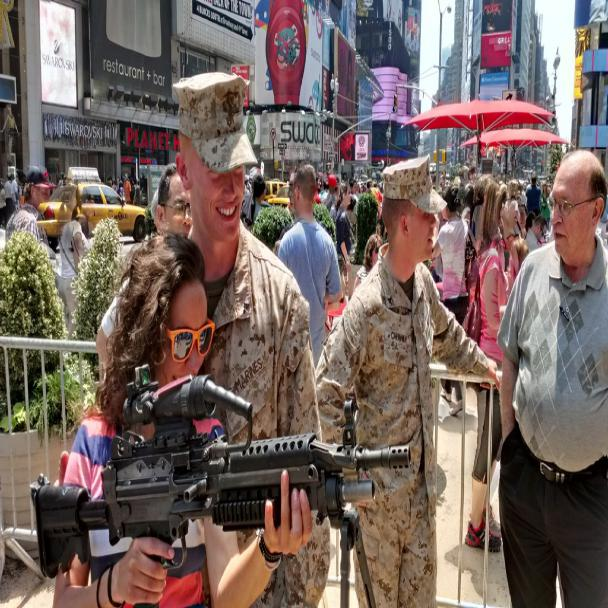Gun: (23, 380, 407, 570)
Hand: (228, 475, 318, 607), (64, 533, 176, 606)
